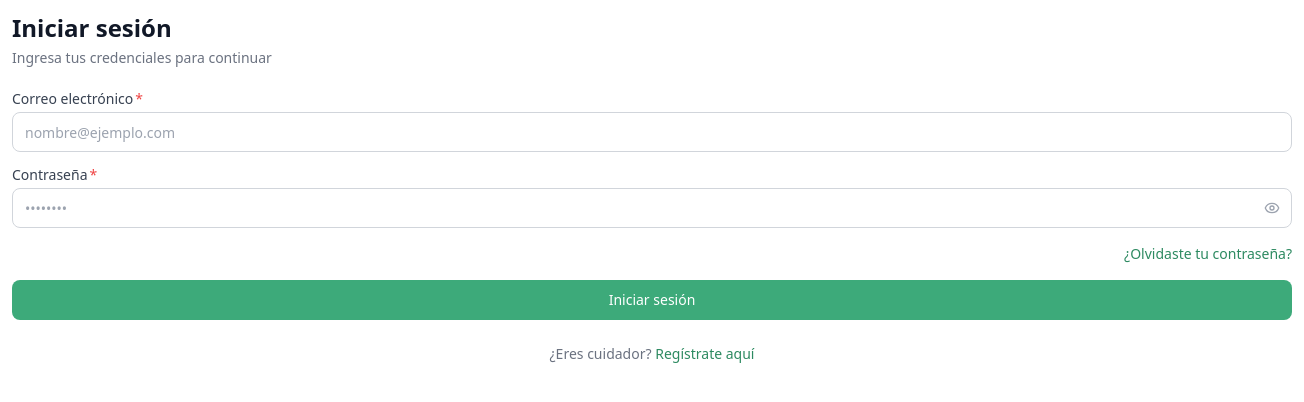
Test: LoginForm › shows validation error when password is empty
Type "test@test.com" into the field labelled "Correo electrónico*" at (652, 132), box x1=12 y1=112 x2=1292 y2=152
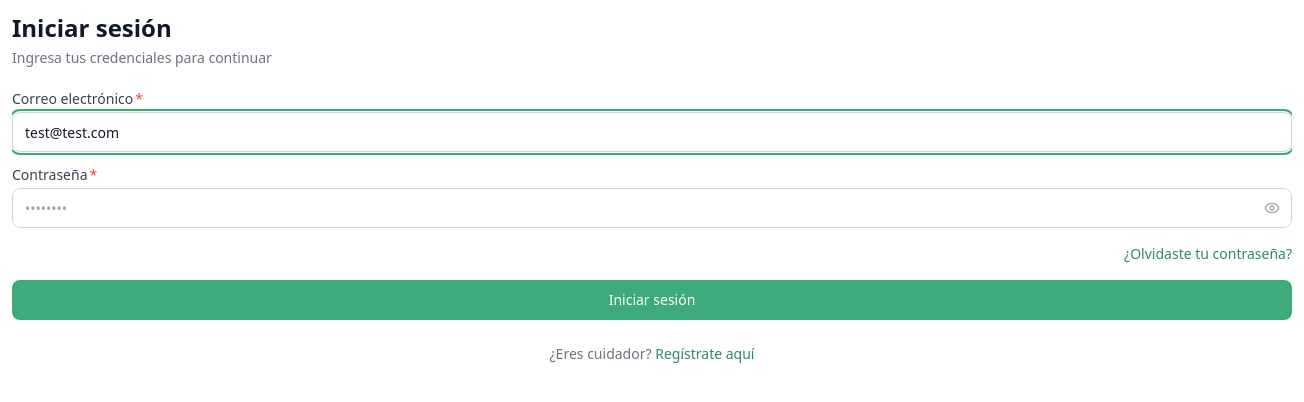
Click the button "Iniciar sesión" at (652, 300), box x1=12 y1=280 x2=1292 y2=320
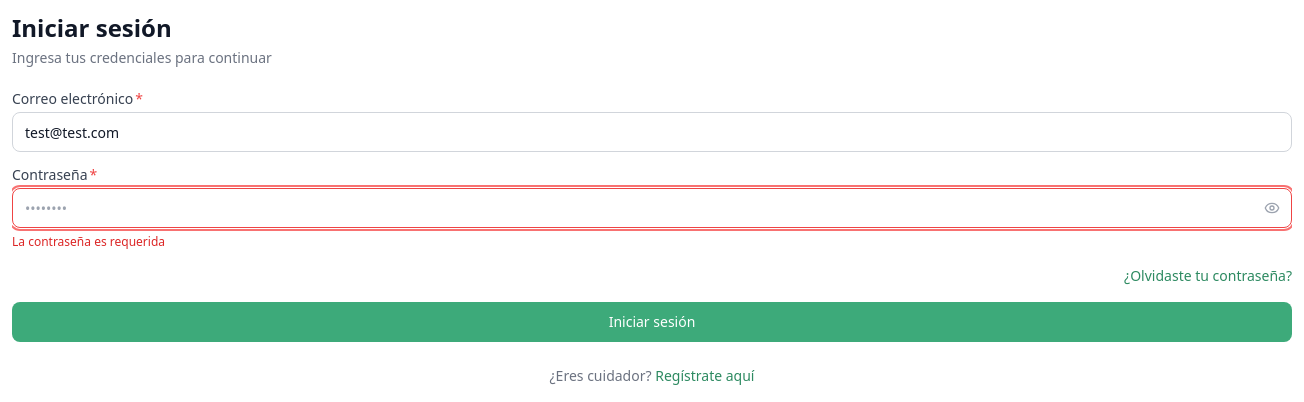
Now the message reads "La contraseña es requerida", box x1=12 y1=233 x2=165 y2=250
